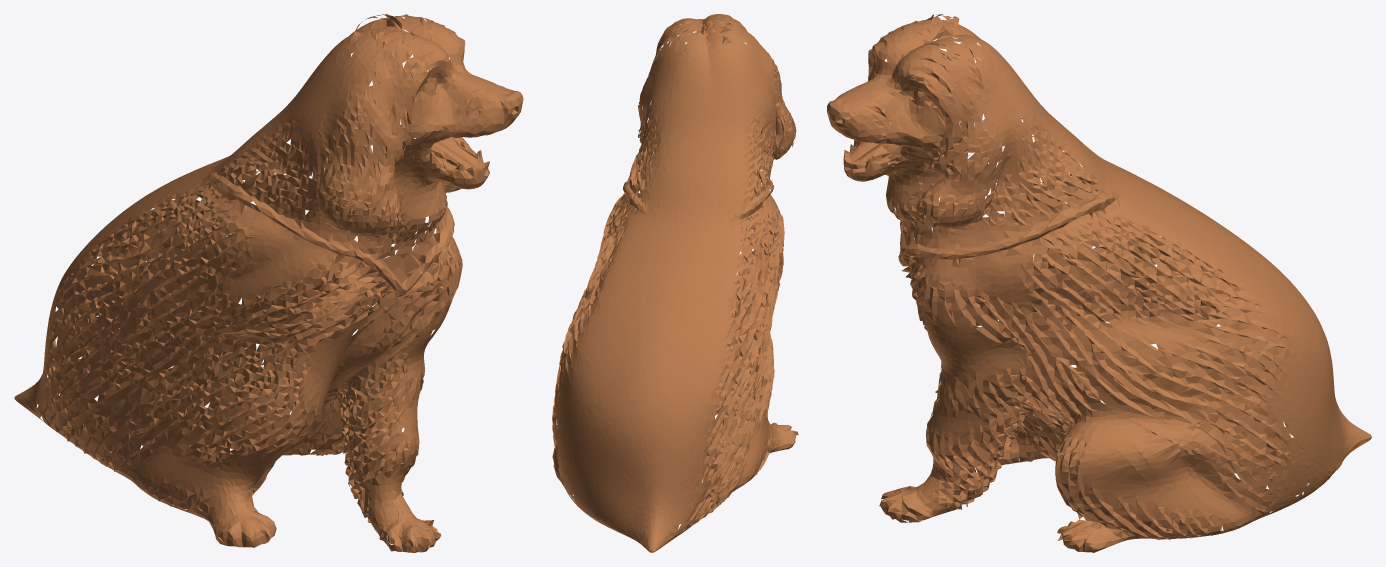
File: cocker-real-sit.glb
3 renders of one model, left to right at view 1: azimuth 30°, elevation 25°; view 2: azimuth 150°, elevation 25°; view 3: azimuth 270°, elevation 25°, orthographic. The views are drawn at different scales.
Visible parts, largest first — view 1: CockerRealSit; view 2: CockerRealSit; view 3: CockerRealSit.
Boxes of the visible parts, box(x1,y1,x2,y2) form: CockerRealSit: box(14, 14, 523, 552); CockerRealSit: box(552, 14, 798, 552); CockerRealSit: box(827, 14, 1371, 552).
Bounding box in the file's own units: 0.4541 × 0.8179 × 0.8166.
